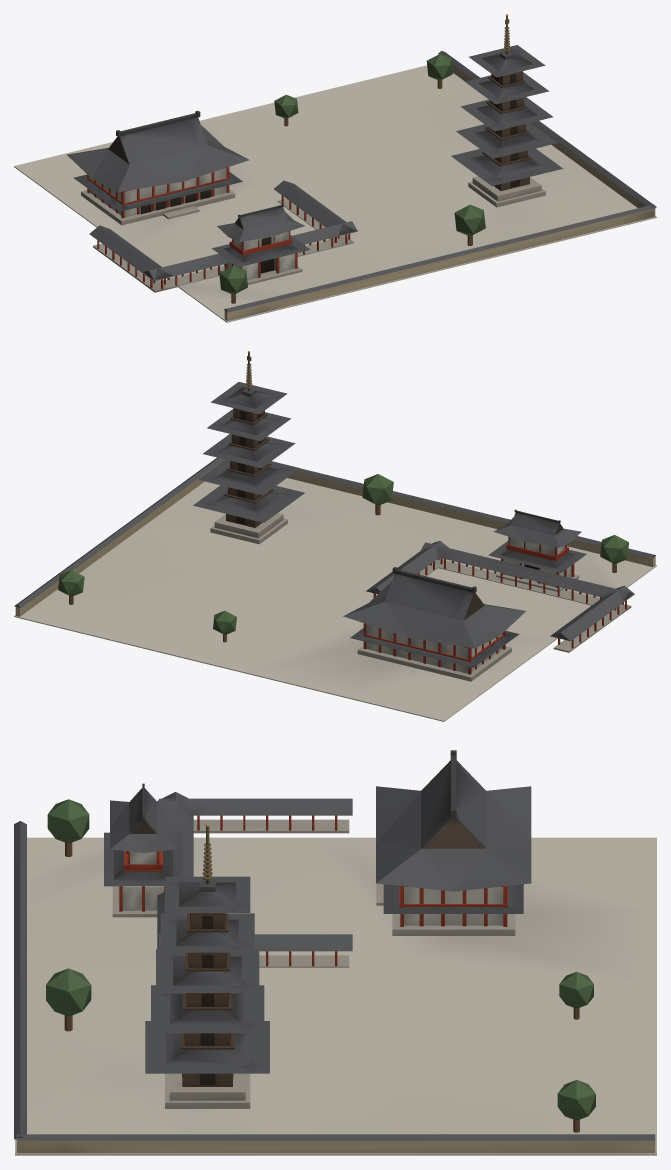
File: toji.glb
3 renders of one model, top to bottom at view 1: azimuth 30°, elevation 25°; view 2: azimuth 150°, elevation 25°; view 3: azimuth 270°, elevation 25°, orthographic. The views are drawn at different scales.
Visible parts, largest first — view 1: p0_grounds, p2_pagoda, p1_halls; view 2: p0_grounds, p2_pagoda, p1_halls; view 3: p0_grounds, p2_pagoda, p1_halls.
Part boxes in pixels (left/top/right/bottom): p0_grounds: left=14, top=50, right=656, bottom=322; p2_pagoda: left=67, top=14, right=562, bottom=267; p1_halls: left=81, top=54, right=485, bottom=303; p0_grounds: left=14, top=457, right=656, bottom=721; p2_pagoda: left=193, top=351, right=586, bottom=667; p1_halls: left=58, top=474, right=634, bottom=681; p0_grounds: left=14, top=821, right=656, bottom=1155; p2_pagoda: left=104, top=750, right=531, bottom=1100; p1_halls: left=46, top=792, right=595, bottom=1132.
Size of the model in its own units: 149 by 55.33 by 120.
